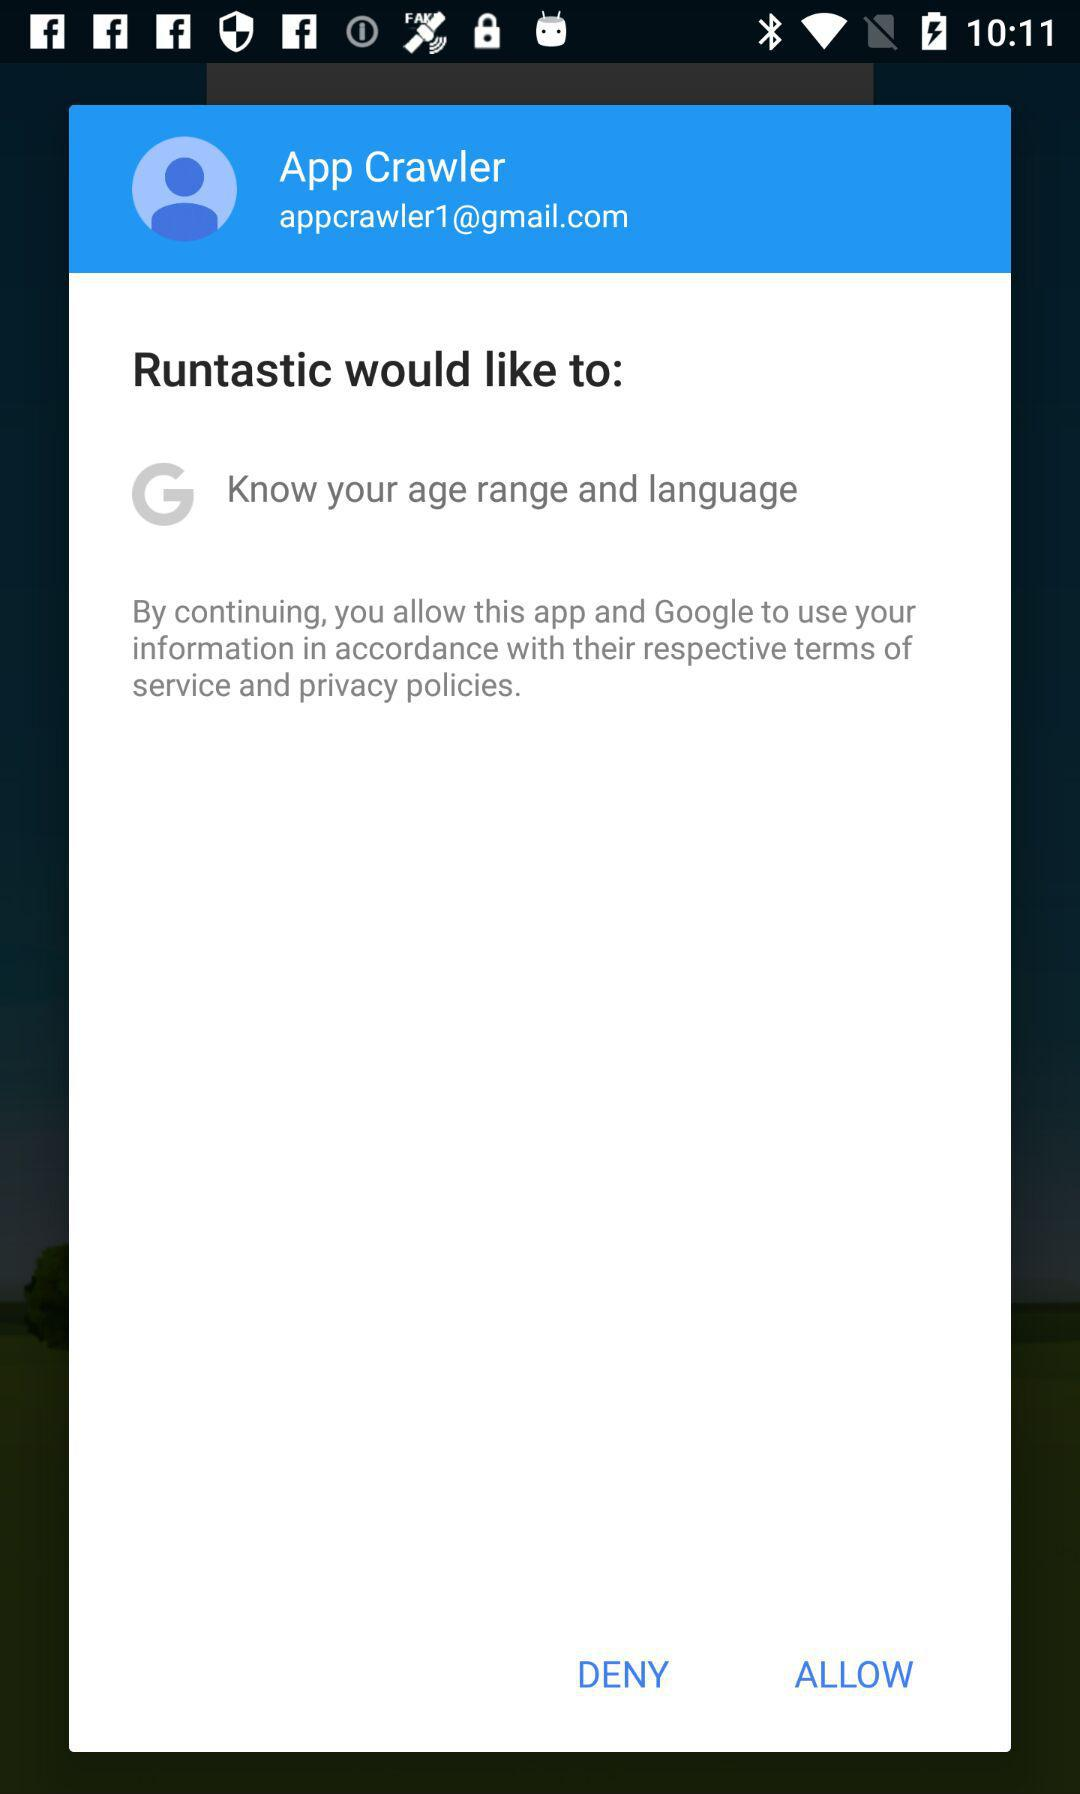Icon: (131, 136, 240, 242)
Modal: (69, 105, 1012, 1752)
Text: (132, 597, 919, 704), (228, 472, 799, 513), (135, 349, 623, 390), (281, 201, 629, 237), (278, 150, 507, 193), (132, 463, 196, 528), (794, 1659, 913, 1689), (579, 1659, 670, 1689)
UpperTaskBar: (1, 1, 1080, 64)
